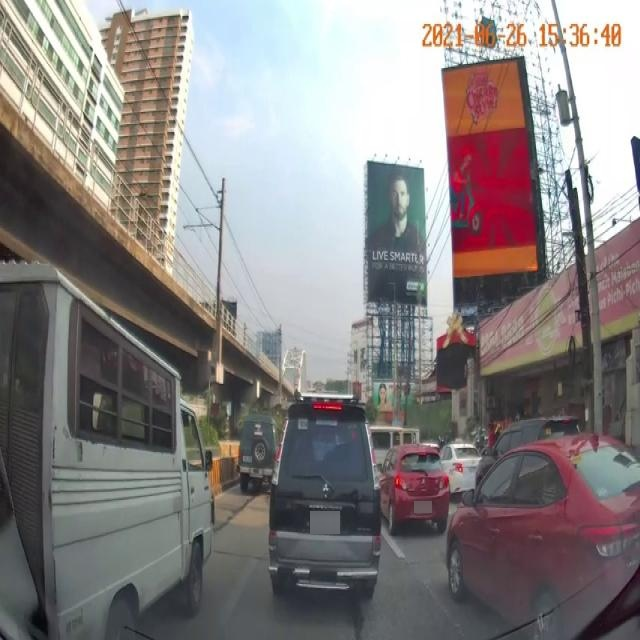car: (0, 267, 217, 616), (452, 458, 636, 626), (279, 404, 376, 594), (380, 449, 450, 538), (235, 406, 279, 486)
